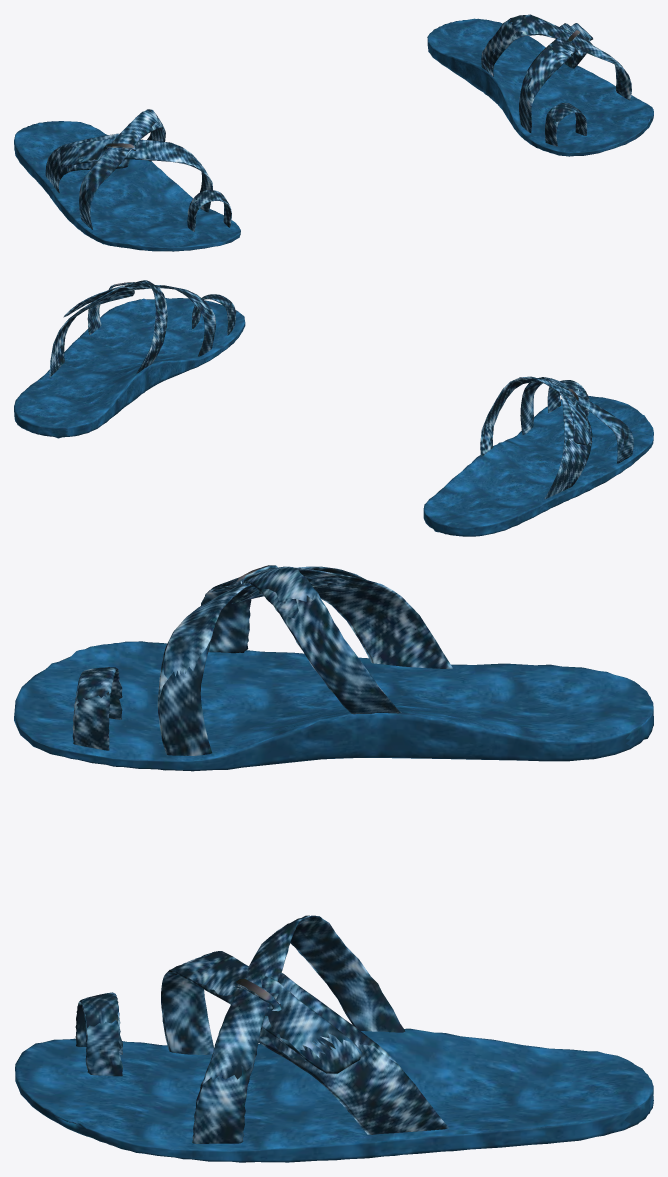
The model's file is elvs-male-flip-flop-sandals1.glb.
The picture shows the model from 3 angles, top to bottom: view 1: azimuth 30°, elevation 25°; view 2: azimuth 150°, elevation 25°; view 3: azimuth 270°, elevation 25°; orthographic projection. The views are drawn at different scales.
Visible parts, largest first — view 1: Human.elvs_male_flip_flop_sandals1; view 2: Human.elvs_male_flip_flop_sandals1; view 3: Human.elvs_male_flip_flop_sandals1.
Boxes of the visible parts, x1,y1,x2,y2 form: Human.elvs_male_flip_flop_sandals1: [14, 14, 653, 251]; Human.elvs_male_flip_flop_sandals1: [14, 280, 653, 536]; Human.elvs_male_flip_flop_sandals1: [14, 565, 653, 1162].
Size of the model in its own units: 0.5555 by 0.0904 by 0.2977.
Materials: 1 (1 with a texture image).
